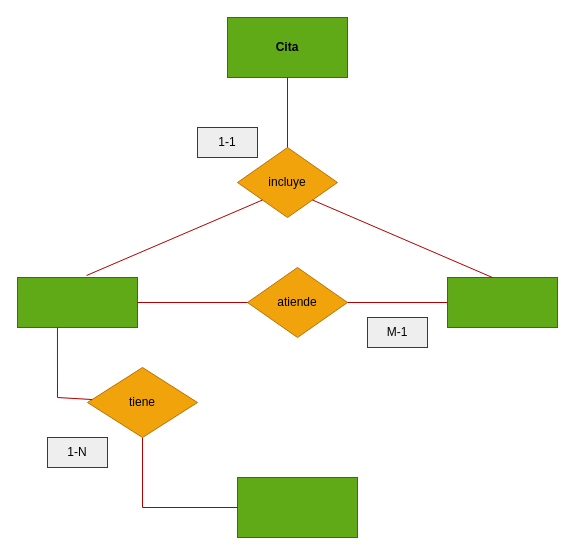
Some shapes in this 575 by 555 pixel diagram are drawn without their labels. The shapes that lost their labels are listed below. From the top down, each one's centre as x and y in pixels, then its label:
At [77,302]: "Paciente".
At [502,302]: "Médico".
At [297,507]: "Tratamiento".
